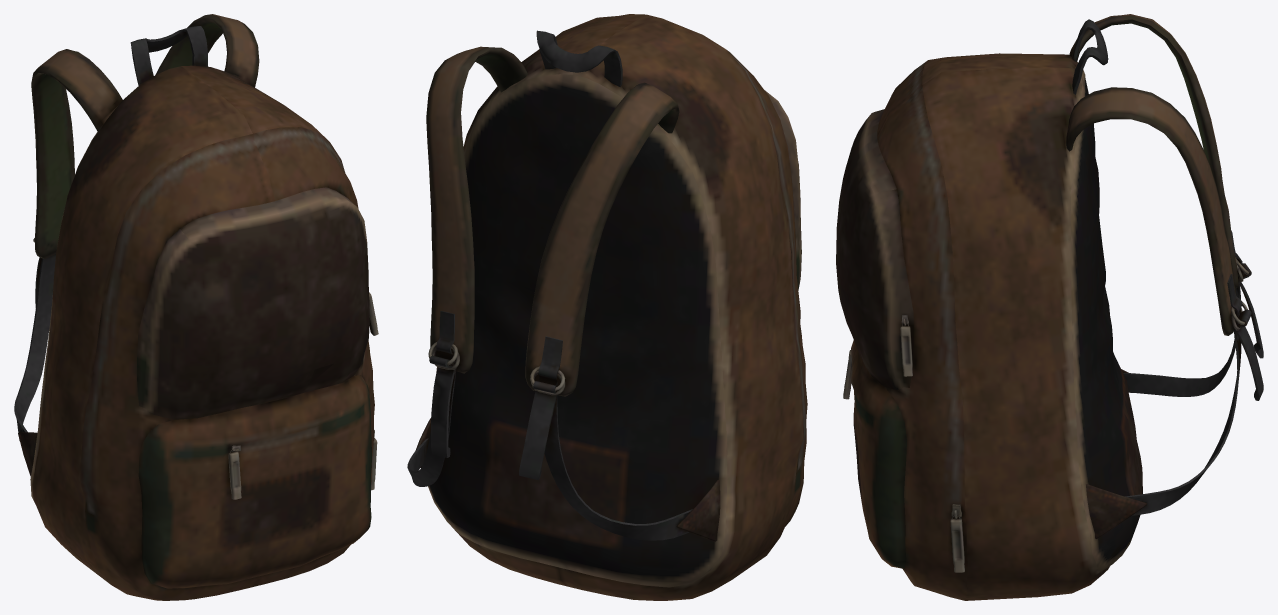
The model's file is Backpack.FBX.
3 views of the same model, side by side, from view 1: azimuth 30°, elevation 25°; view 2: azimuth 150°, elevation 25°; view 3: azimuth 270°, elevation 25° (orthographic). The views are drawn at different scales.
Parts seen in each view (by area): view 1: Backpack_mdl; view 2: Backpack_mdl; view 3: Backpack_mdl.
Part boxes in pixels (x1,y1,x2,y2): Backpack_mdl: [14, 14, 378, 600]; Backpack_mdl: [407, 14, 807, 600]; Backpack_mdl: [836, 14, 1263, 600].
Bounding box in the file's own units: 31.04 × 51.32 × 37.81.
